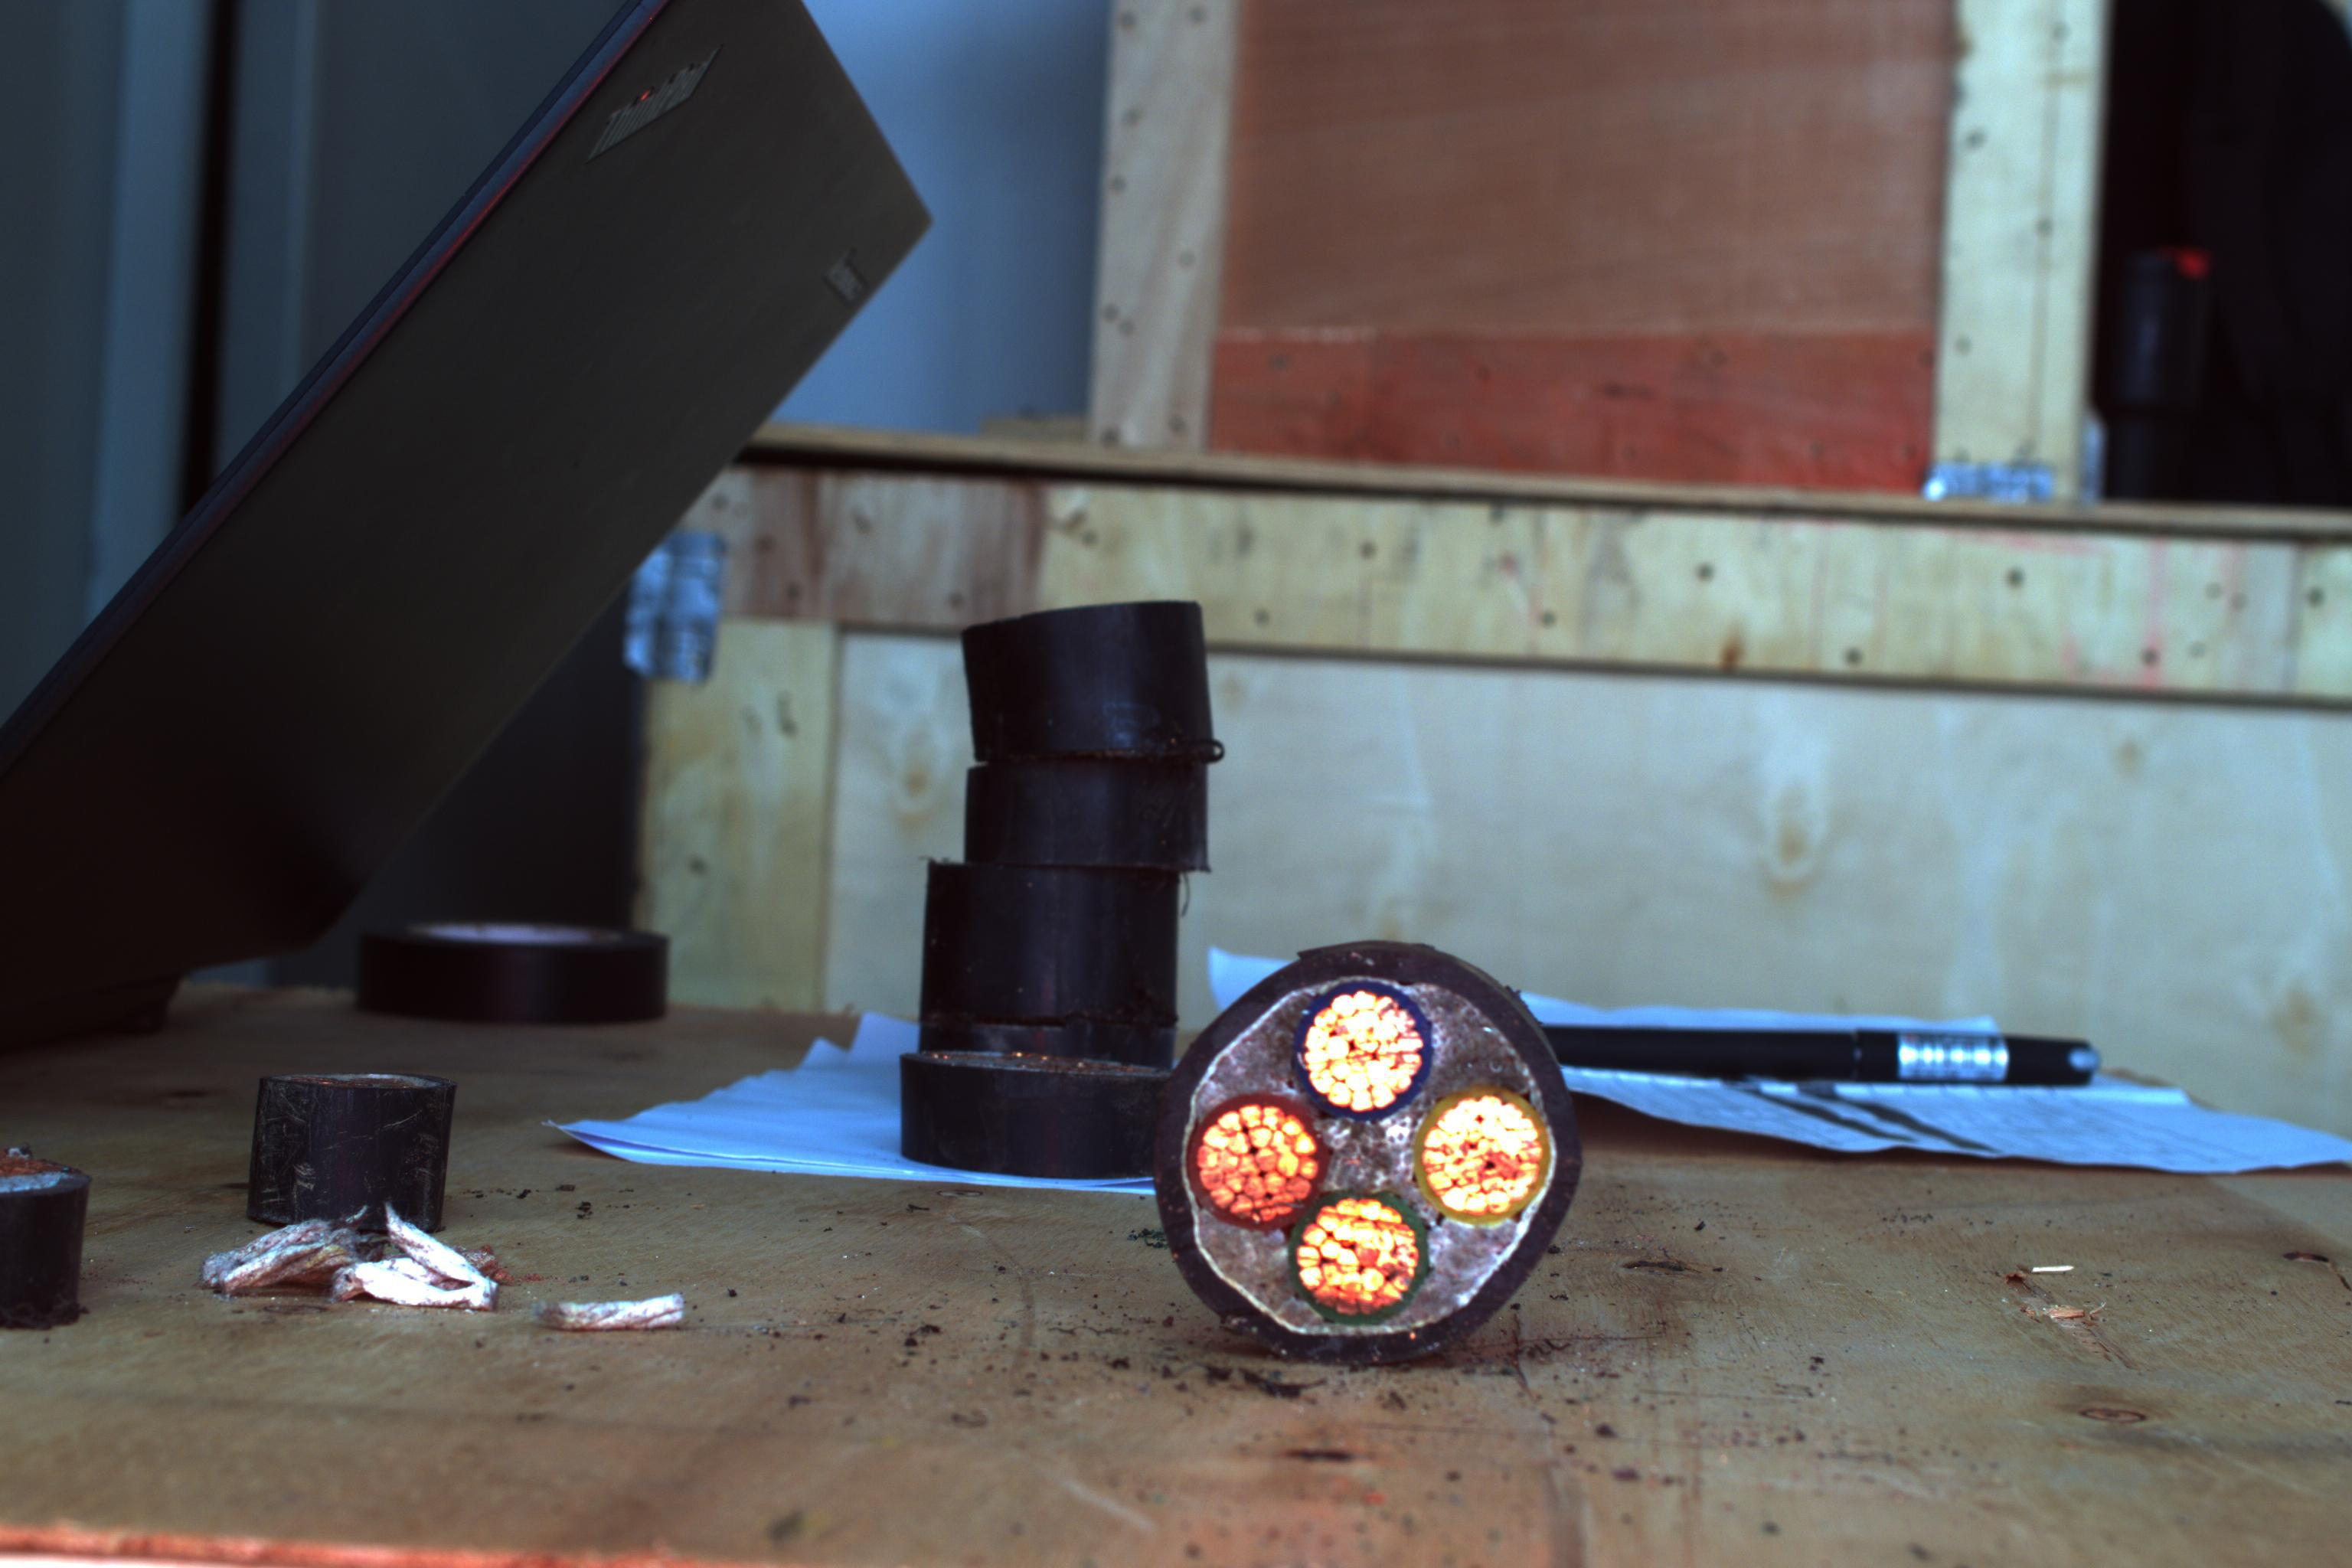YJV_0.6_1kV_4x120: (1169, 940, 1578, 1360)
